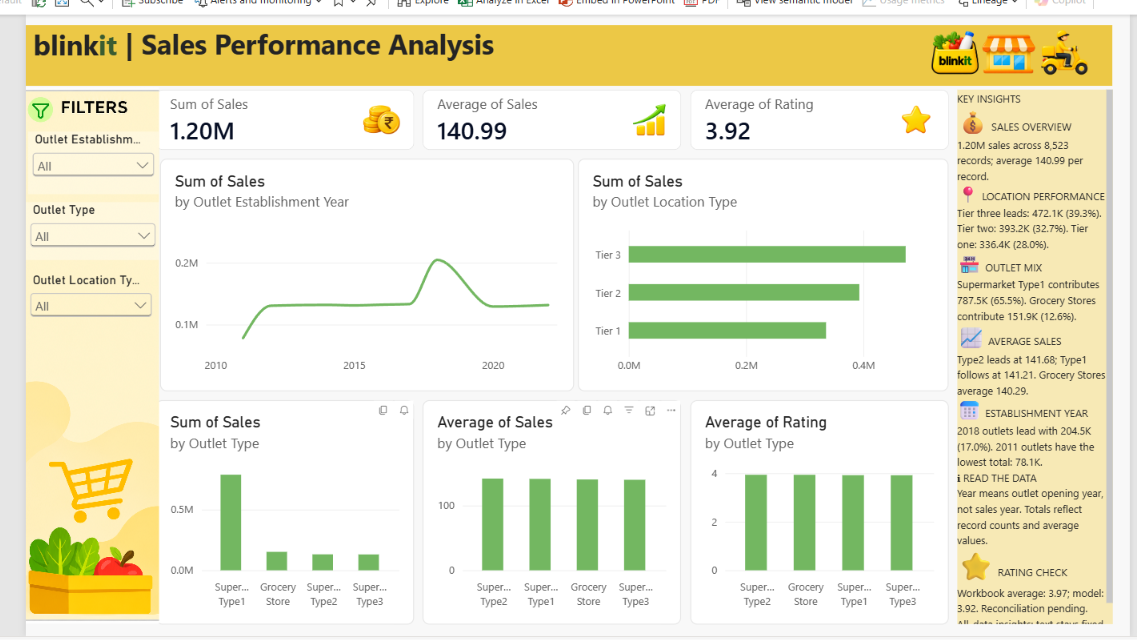

Layout of this report page (visuals, bound fields, positions):
{"tool":"powerbi","page":{"name":"Page 1","canvas":[1280,720],"ordinal":0},"visuals":[{"type":"image","box":[0,84.5,155.1,621.6],"z":0,"group":"g1"},{"type":"lineChart","fields":{"Category":["BlinkIT Grocery Data.Outlet Establishment Year"],"Y":["Sum(BlinkIT Grocery Data.Sales)"]},"box":[155.4,167.3,480,270],"z":0,"group":"g2"},{"type":"cardVisual","fields":{"Data":["Sum(BlinkIT Grocery Data.Sales)"]},"box":[150.4,87.3,300,70],"z":1000,"group":"g2"},{"type":"slicer","fields":{"Values":["BlinkIT Grocery Data.Outlet Establishment Year"]},"box":[2.7,135.9,150.9,73.1],"z":1000,"group":"g1"},{"type":"clusteredBarChart","fields":{"Category":["BlinkIT Grocery Data.Outlet Location Type"],"Y":["Sum(BlinkIT Grocery Data.Sales)"]},"box":[640.4,167.3,430,270],"z":2000,"group":"g2"},{"type":"clusteredColumnChart","fields":{"Category":["BlinkIT Grocery Data.Outlet Type"],"Y":["Sum(BlinkIT Grocery Data.Sales)"]},"box":[150.4,447.3,300,260],"z":3000,"group":"g2"},{"type":"clusteredColumnChart","fields":{"Category":["BlinkIT Grocery Data.Outlet Type"],"Y":["Avg(BlinkIT Grocery Data.Sales)"]},"box":[460.4,447.3,300,260],"z":4000,"group":"g2"},{"type":"clusteredColumnChart","fields":{"Category":["BlinkIT Grocery Data.Outlet Type"],"Y":["Avg(BlinkIT Grocery Data.Rating)"]},"box":[770.4,447.3,300,260],"z":5000,"group":"g2"},{"type":"cardVisual","fields":{"Data":["Avg(BlinkIT Grocery Data.Sales)"]},"box":[460.4,87.3,300,70],"z":6000,"group":"g2"},{"type":"cardVisual","fields":{"Data":["Avg(BlinkIT Grocery Data.Rating)"]},"box":[770.4,87.3,300,70],"z":7000,"group":"g2"},{"type":"textbox","box":[0.4,12.3,1260,70],"z":8000,"group":"g2"},{"type":"textbox","box":[1080.4,87.3,180,620],"z":9000,"group":"g2"},{"type":"image","box":[1035.4,12.3,210,65],"z":10000,"group":"g2"},{"type":"image","box":[380.4,89.3,65,65],"z":11000,"group":"g2"},{"type":"image","box":[690.4,89.3,65,65],"z":12000,"group":"g2"},{"type":"image","box":[1000.4,89.3,65,65],"z":13000,"group":"g2"},{"type":"textbox","box":[0,12.8,258,70],"z":14000,"group":"g2"},{"type":"group","id":"g1","title":"Group 1","box":[0,84.5,155.1,621.6],"z":17000,"group":"g2"},{"type":"slicer","fields":{"Values":["BlinkIT Grocery Data.Outlet Type"]},"box":[0,217.7,155.1,67.2],"z":17001,"group":"g2"},{"type":"slicer","fields":{"Values":["BlinkIT Grocery Data.Outlet Location Type"]},"box":[0,298.6,150.9,56.3],"z":17002,"group":"g2"},{"type":"group","id":"g2","title":"Group 2","box":[0,12.3,1260.4,695],"z":17003}]}

Visuals, with their boxes on the page's 1280x720 design canvas (x1, y1, x2, y2). These are canvas units, not pixel positions in the 1137x640 screenshot, which may show the page scaled, cropped or inside an application window:
image: select_region(0, 84, 155, 706)
lineChart - BlinkIT Grocery Data.Outlet Establishment Year x Sum(BlinkIT Grocery Data.Sales): select_region(155, 167, 635, 437)
cardVisual - Sum(BlinkIT Grocery Data.Sales): select_region(150, 87, 450, 157)
slicer - BlinkIT Grocery Data.Outlet Establishment Year: select_region(3, 136, 154, 209)
clusteredBarChart - BlinkIT Grocery Data.Outlet Location Type x Sum(BlinkIT Grocery Data.Sales): select_region(640, 167, 1070, 437)
clusteredColumnChart - BlinkIT Grocery Data.Outlet Type x Sum(BlinkIT Grocery Data.Sales): select_region(150, 447, 450, 707)
clusteredColumnChart - BlinkIT Grocery Data.Outlet Type x Avg(BlinkIT Grocery Data.Sales): select_region(460, 447, 760, 707)
clusteredColumnChart - BlinkIT Grocery Data.Outlet Type x Avg(BlinkIT Grocery Data.Rating): select_region(770, 447, 1070, 707)
cardVisual - Avg(BlinkIT Grocery Data.Sales): select_region(460, 87, 760, 157)
cardVisual - Avg(BlinkIT Grocery Data.Rating): select_region(770, 87, 1070, 157)
textbox: select_region(0, 12, 1260, 82)
textbox: select_region(1080, 87, 1260, 707)
image: select_region(1035, 12, 1245, 77)
image: select_region(380, 89, 445, 154)
image: select_region(690, 89, 755, 154)
image: select_region(1000, 89, 1065, 154)
textbox: select_region(0, 13, 258, 83)
"Group 1" group: select_region(0, 84, 155, 706)
slicer - BlinkIT Grocery Data.Outlet Type: select_region(0, 218, 155, 285)
slicer - BlinkIT Grocery Data.Outlet Location Type: select_region(0, 299, 151, 355)
"Group 2" group: select_region(0, 12, 1260, 707)
